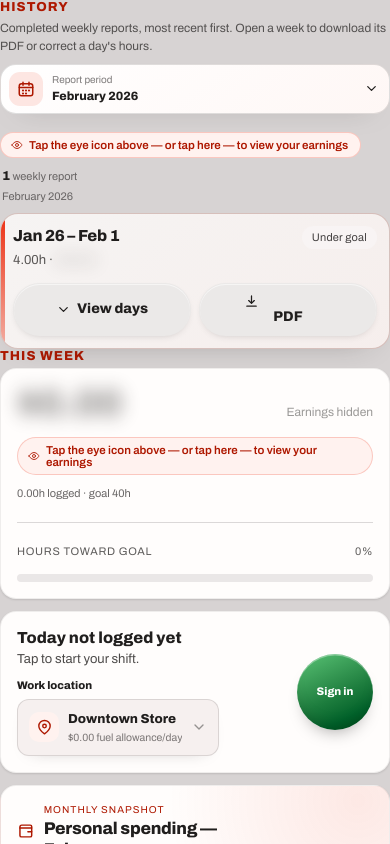
Test: cross-application recalculation › feeds the corrected week into Home's prior-week comparison
The image size is (390, 844).
Click the button "View days" at (102, 309), box [13,282,191,336]
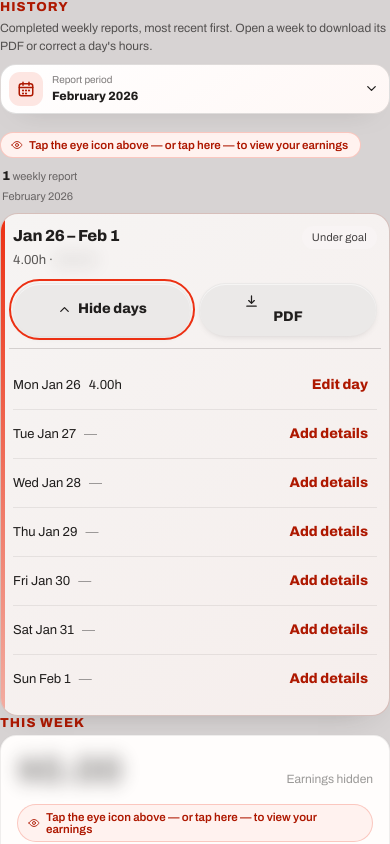
Click the button with aria-label "Edit hours for Mon" at (340, 385), box [303,363,377,407]
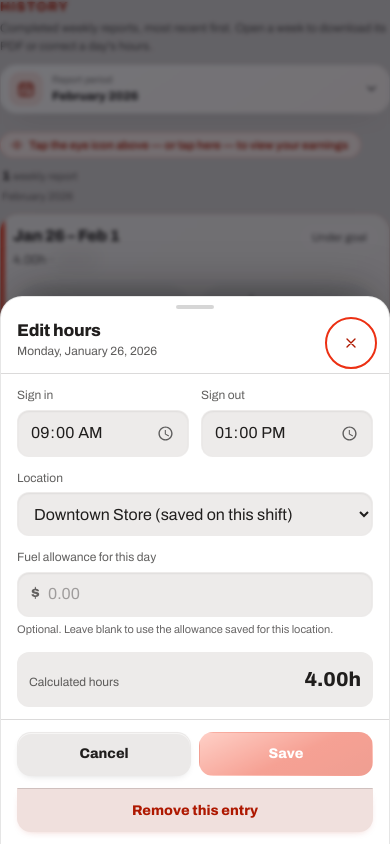
Replace the text in the time field labelled "Sign out" with "15:00" at (287, 433), box [201,410,373,457]
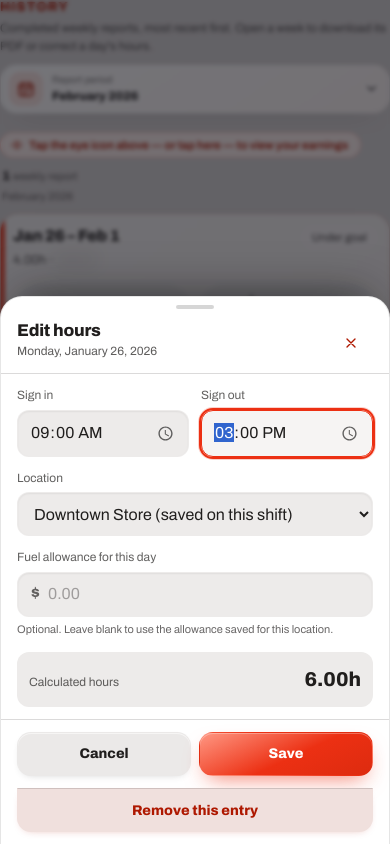
Click the button "Save" at (286, 754), box [199,732,373,776]
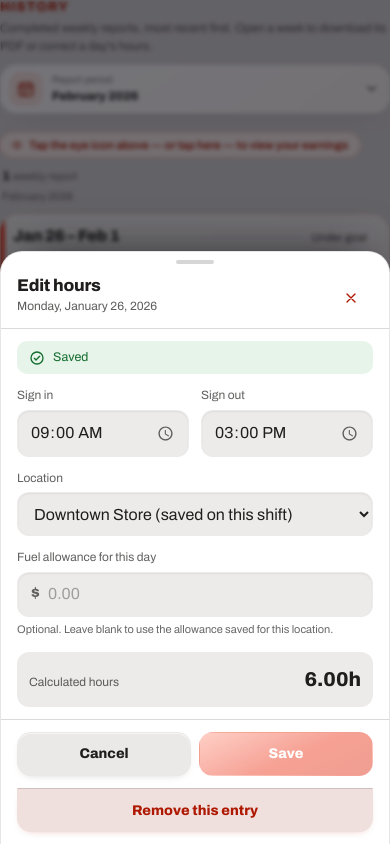
Expected: the text "Earnings hidden" is shown, [286,770,373,788]
Result: the text "Saved" is shown at [53,350,88,364]
Result: the element with class "history-week-summary" shows "6.00h" at [13,253,96,267]
